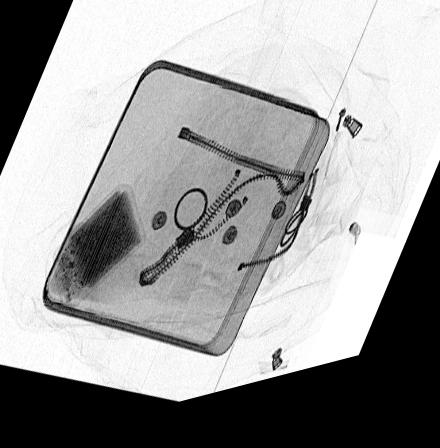Powerbank: (52, 189, 144, 313)
